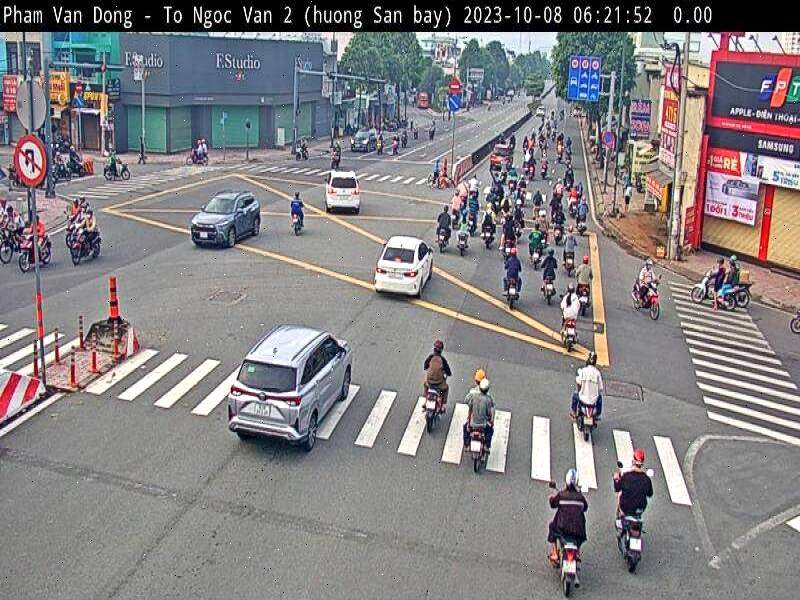car: (227, 327, 353, 450), (192, 191, 262, 248), (375, 235, 435, 298), (325, 168, 364, 215)
motorcycle: (621, 512, 645, 574), (557, 538, 582, 597), (578, 399, 601, 444), (422, 387, 440, 434), (469, 424, 486, 473), (561, 314, 581, 355)
